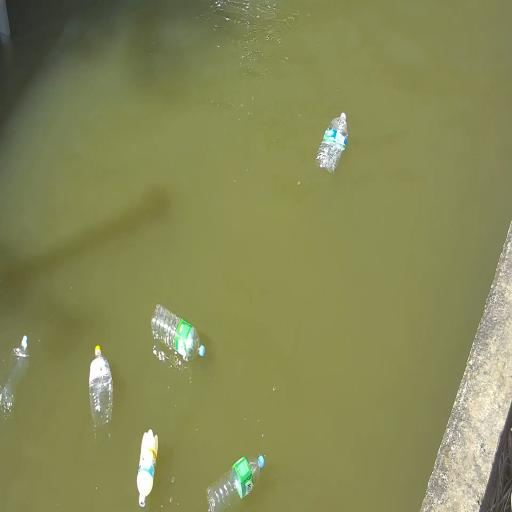plastic: (207, 455, 264, 511), (151, 305, 205, 361), (0, 336, 29, 418), (89, 345, 113, 431), (316, 112, 348, 173), (137, 430, 158, 507)
